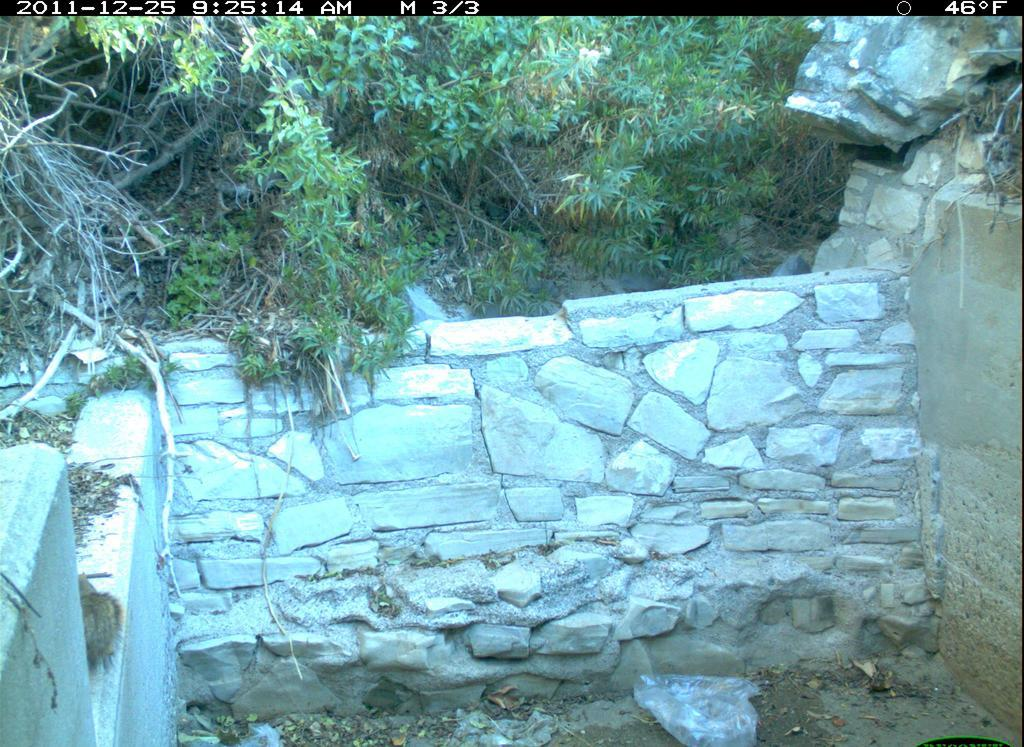squirrel: (66, 564, 129, 681)
